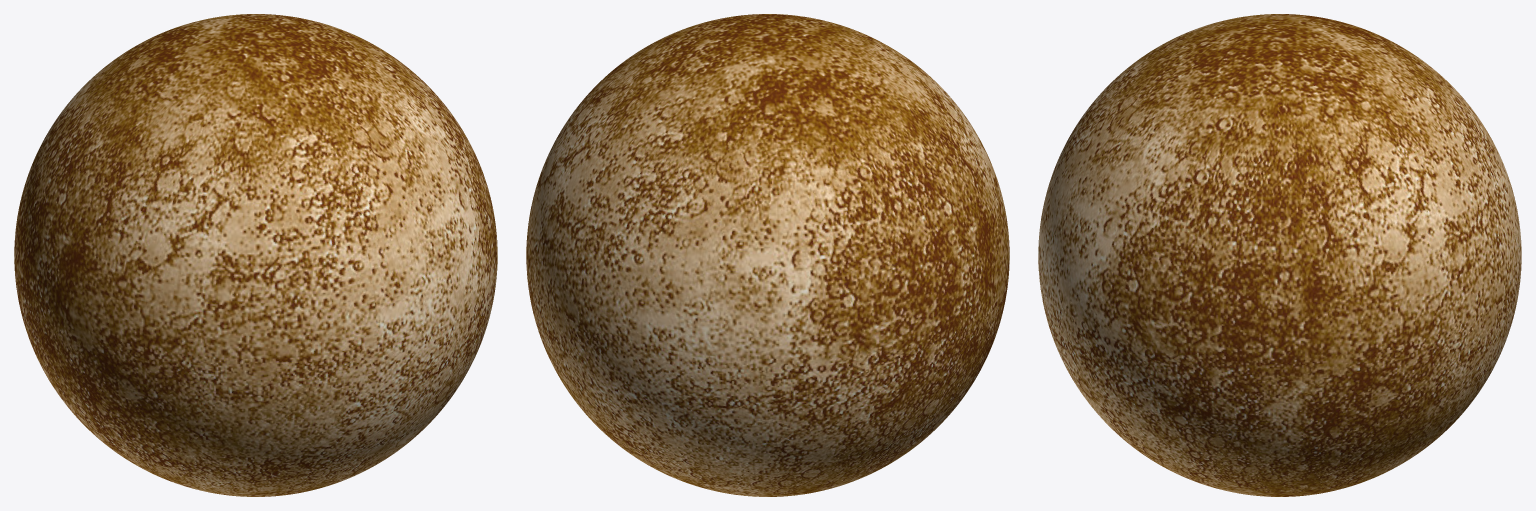
File: 1_mercury.gltf
The picture shows the model from 3 angles, left to right: view 1: azimuth 30°, elevation 25°; view 2: azimuth 150°, elevation 25°; view 3: azimuth 270°, elevation 25°; orthographic projection.
Parts seen in each view (by area): view 1: Mercury_globe; view 2: Mercury_globe; view 3: Mercury_globe.
Part boxes in pixels (x1,y1,x2,y2): Mercury_globe: (14, 14, 497, 496); Mercury_globe: (526, 14, 1009, 496); Mercury_globe: (1038, 14, 1521, 496).
Size of the model in its own units: 4.88 by 4.88 by 4.88.
Materials: 1 (1 with a texture image).
